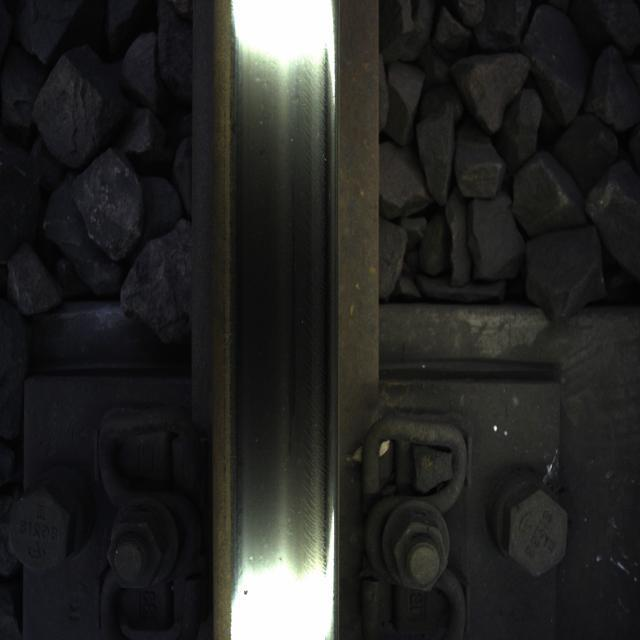break: (240, 41, 328, 594)
